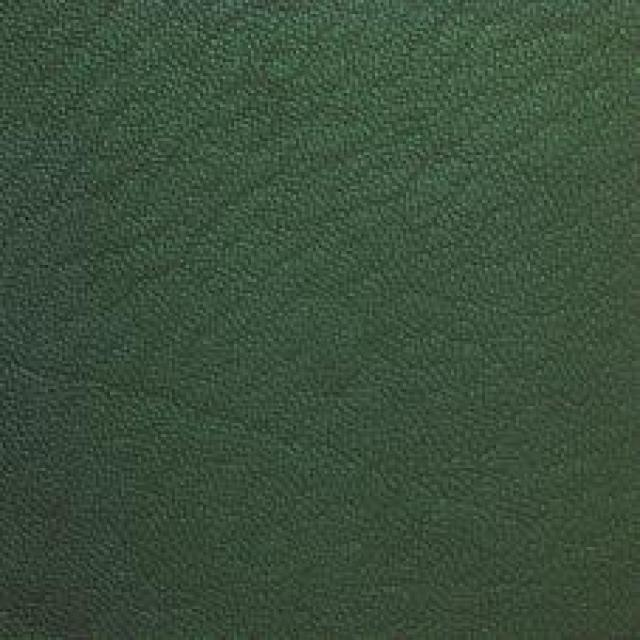Growth Marks: (38, 42, 186, 420), (248, 56, 431, 269)
